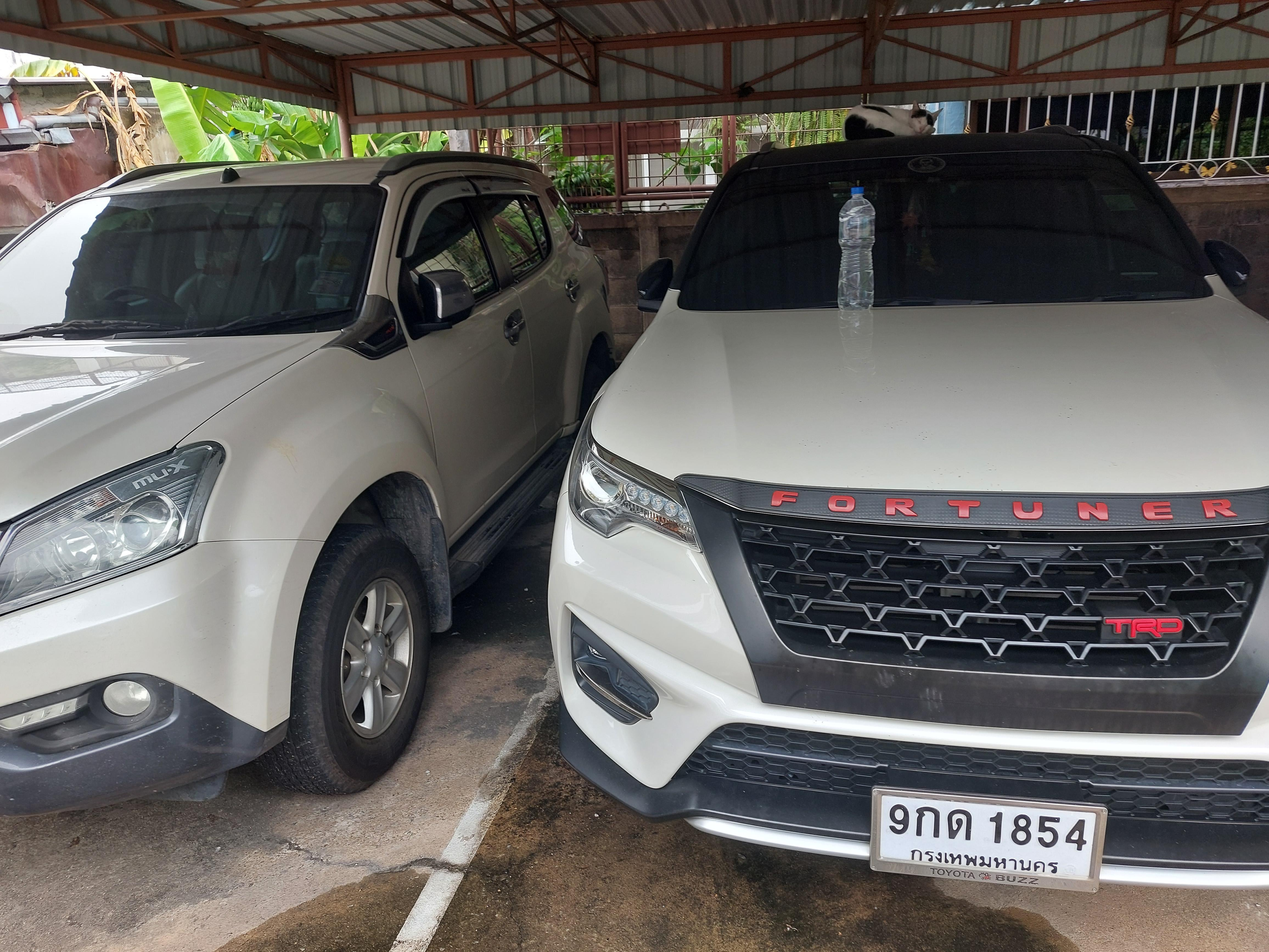license-plate: (866, 778, 1106, 900)
